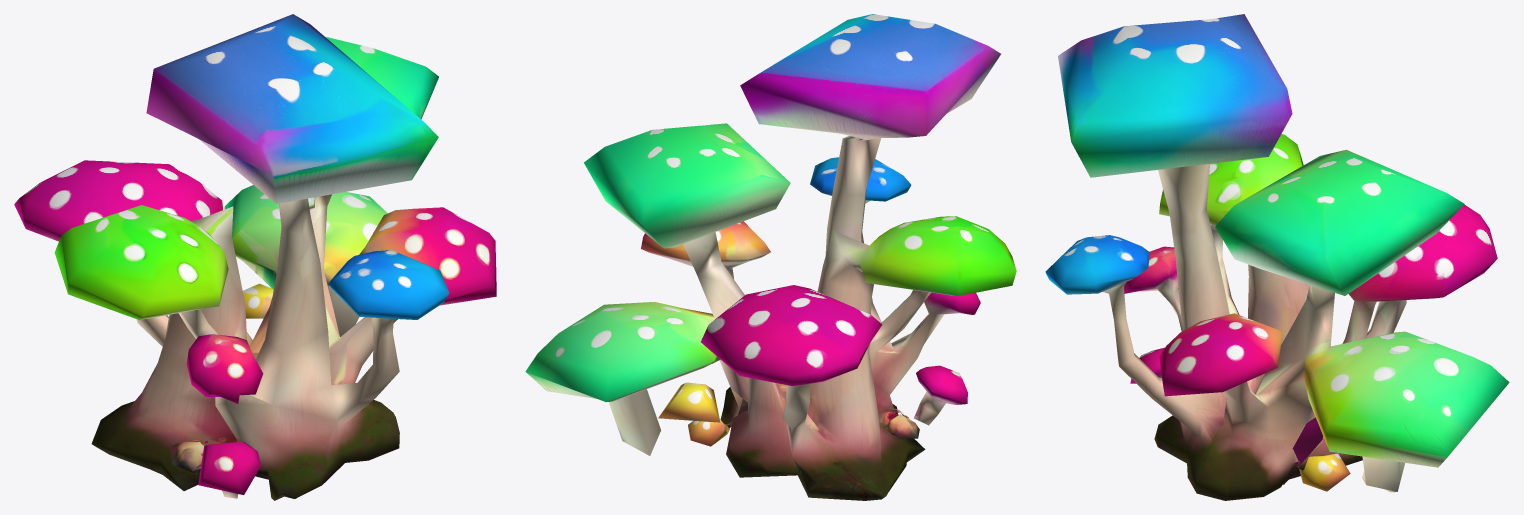
Rendered from p_mush_glow.glb.
The picture shows the model from 3 angles, left to right: view 1: azimuth 30°, elevation 25°; view 2: azimuth 150°, elevation 25°; view 3: azimuth 270°, elevation 25°; orthographic projection. The views are drawn at different scales.
Visible parts, largest first — view 1: Mesh_0; view 2: Mesh_0; view 3: Mesh_0.
Boxes of the visible parts, bbox=[...] form: Mesh_0: bbox=[14, 14, 496, 500]; Mesh_0: bbox=[525, 14, 1016, 500]; Mesh_0: bbox=[1045, 14, 1509, 500].
Size of the model in its own units: 0.2042 by 0.2 by 0.2067.
1 material, 1 textured.
